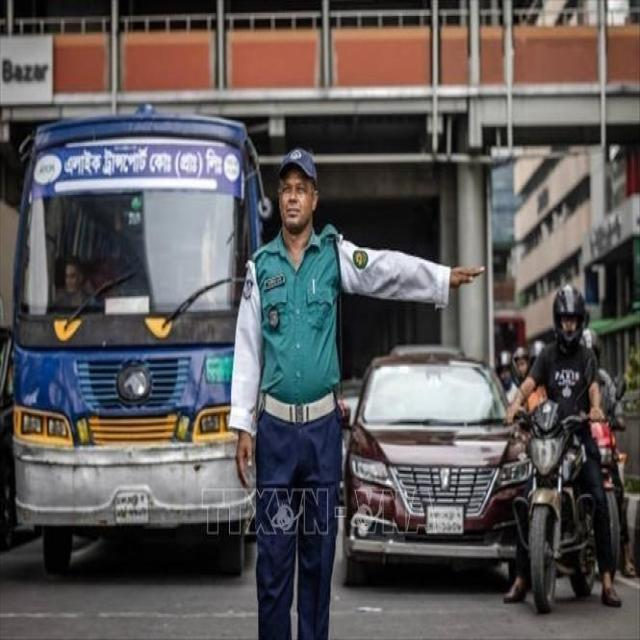Bus: (10, 110, 276, 578)
Car: (342, 349, 529, 593)
Motorbike: (503, 360, 606, 612)
traffic-police: (224, 128, 395, 640)
